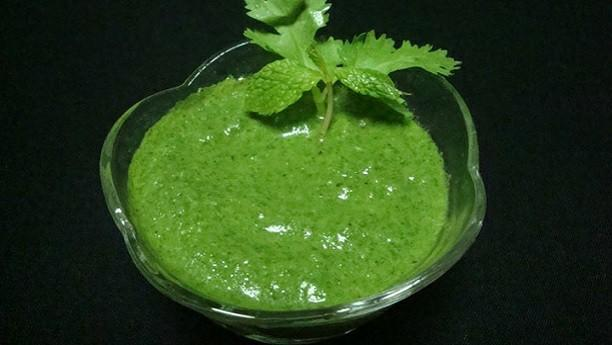GreenChutney: (126, 72, 450, 309)
